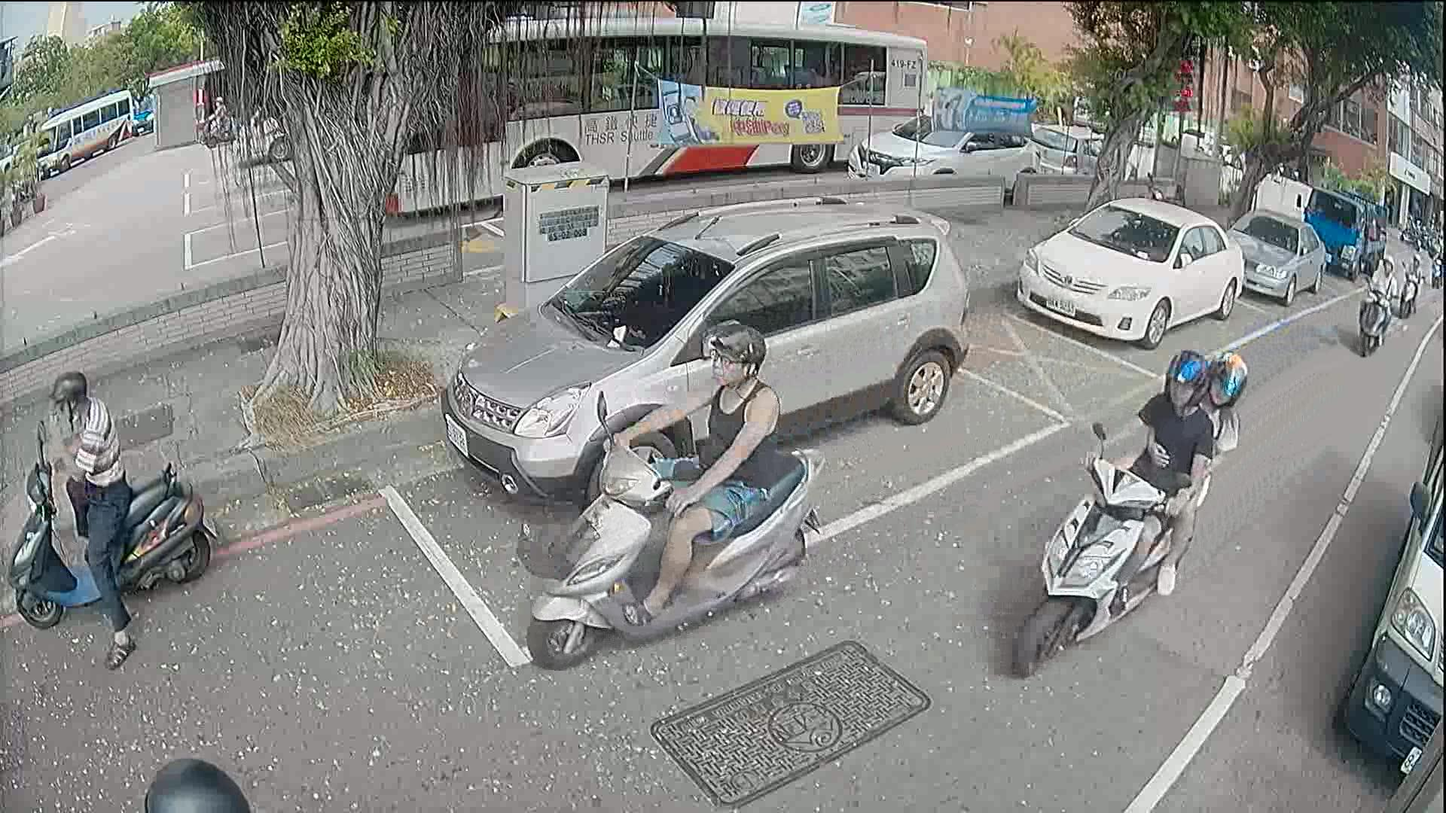person: (587, 315, 786, 624), (1082, 346, 1218, 621), (36, 366, 138, 666), (1117, 350, 1242, 586), (142, 755, 256, 811), (1365, 252, 1397, 346), (201, 92, 227, 135), (1402, 252, 1423, 279)
